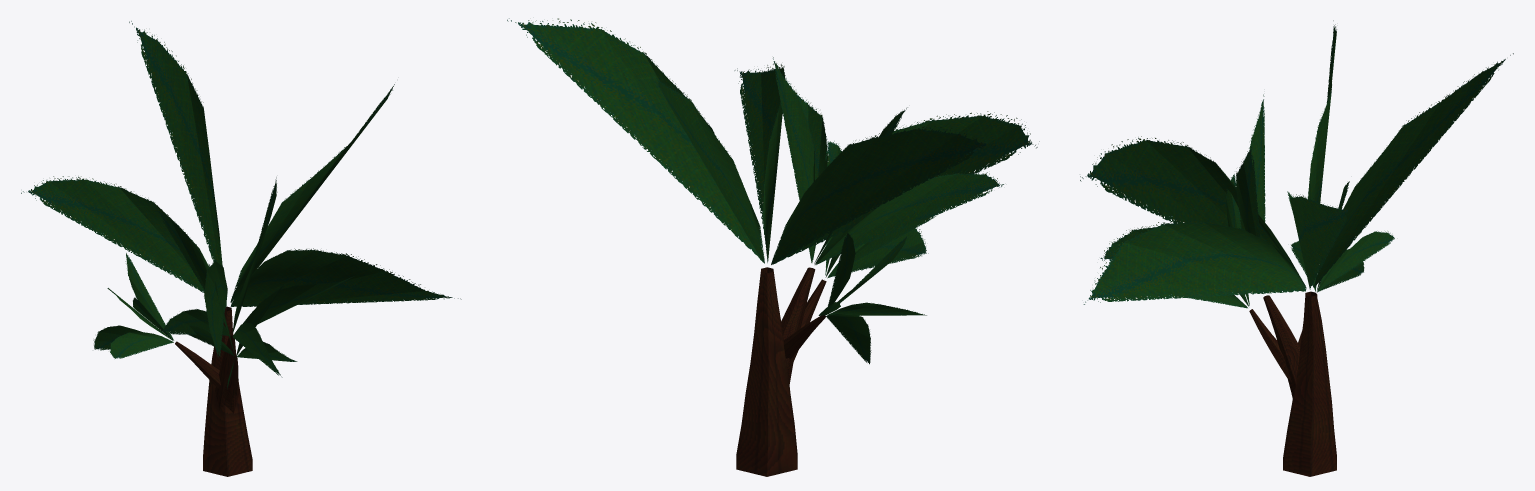
Rendered from woahATree.obj.
3 views of the same model, side by side, from view 1: azimuth 30°, elevation 25°; view 2: azimuth 150°, elevation 25°; view 3: azimuth 270°, elevation 25° (orthographic). The views are drawn at different scales.
Bounding box in the file's own units: 16.07 × 14.67 × 14.37.
